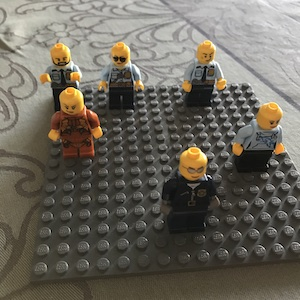Lego: (162, 148, 218, 236), (47, 86, 101, 161), (229, 102, 286, 170), (180, 41, 226, 109), (98, 42, 142, 113), (40, 43, 85, 110)
